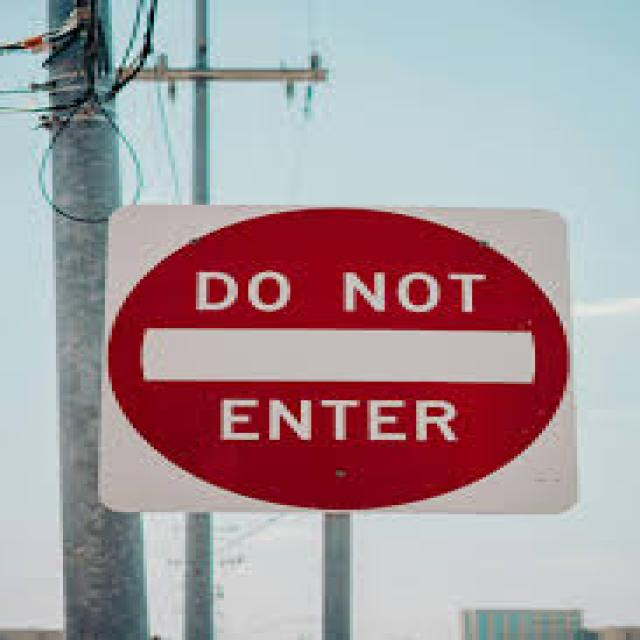doNotEnter: (103, 204, 568, 512)
